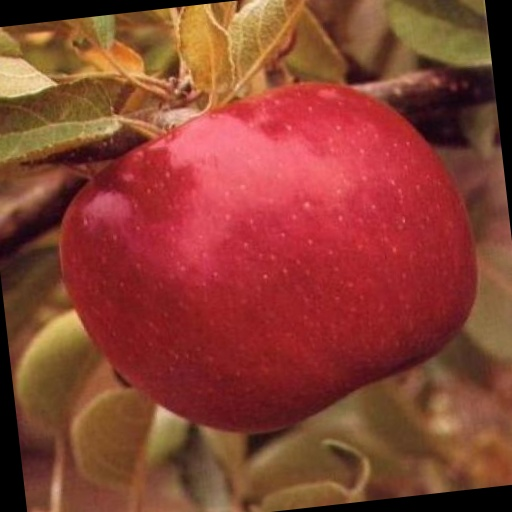fruit: (12, 144, 156, 507)
